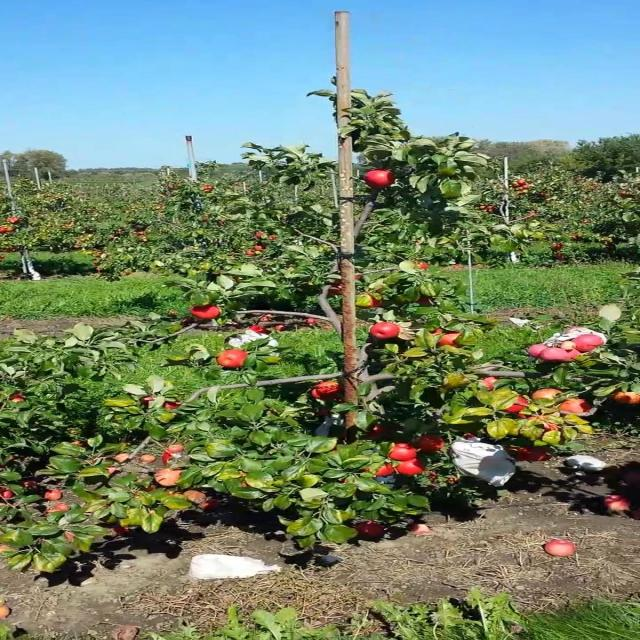apple: (362, 172, 398, 189), (156, 468, 185, 488), (369, 324, 404, 340), (355, 520, 386, 537), (532, 388, 564, 404), (504, 396, 532, 414), (518, 448, 551, 463), (397, 460, 427, 476), (532, 416, 562, 432), (390, 444, 420, 460), (561, 400, 592, 415), (191, 304, 220, 320), (575, 336, 604, 352), (220, 352, 249, 368), (419, 436, 448, 452), (362, 464, 396, 477), (433, 332, 462, 347), (390, 448, 420, 461), (540, 348, 565, 363), (440, 332, 462, 348), (355, 296, 384, 308), (319, 380, 341, 395), (611, 392, 638, 404), (483, 376, 501, 391), (362, 296, 384, 308), (532, 344, 549, 358), (163, 400, 183, 411), (369, 428, 389, 439), (335, 392, 354, 403), (49, 504, 71, 513), (13, 392, 28, 404), (141, 396, 156, 408), (568, 352, 585, 362), (561, 340, 576, 351), (63, 532, 78, 542), (420, 296, 434, 306), (312, 388, 322, 400), (319, 408, 334, 416), (241, 480, 254, 488), (6, 488, 14, 499), (321, 394, 334, 400), (419, 264, 430, 271), (257, 328, 268, 335)
